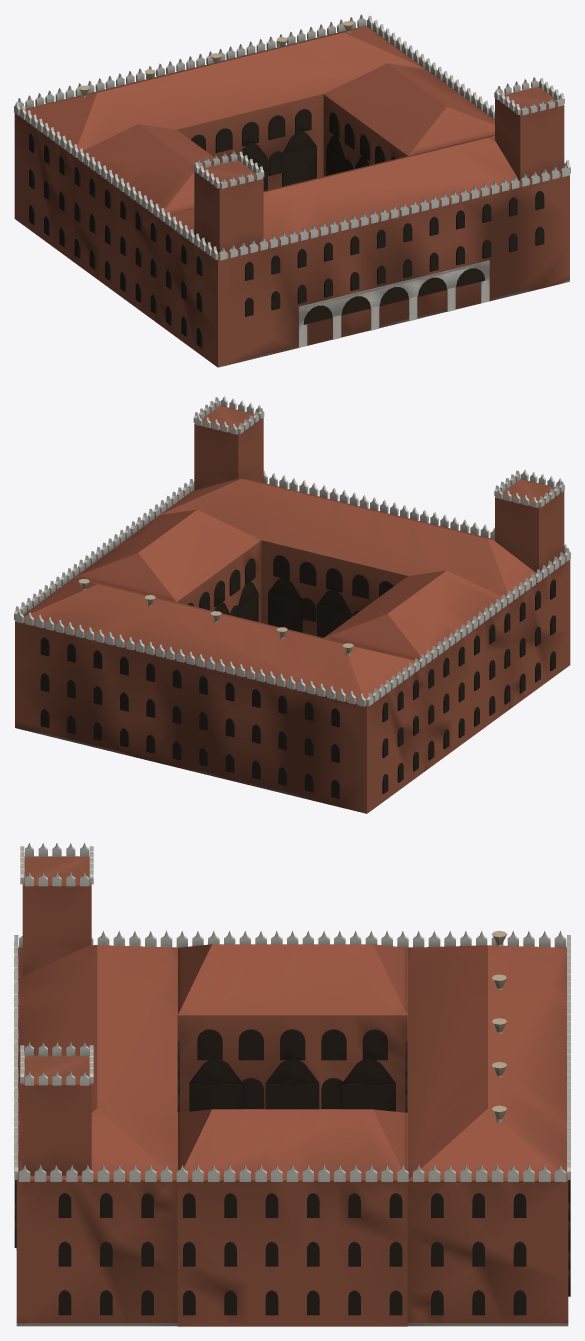
The model's file is fondaco-old.glb.
3 renders of one model, top to bottom at view 1: azimuth 30°, elevation 25°; view 2: azimuth 150°, elevation 25°; view 3: azimuth 270°, elevation 25°, orthographic. The views are drawn at different scales.
Parts seen in each view (by area): view 1: p2_roofs, p0_walls, p1_facades; view 2: p2_roofs, p0_walls, p1_facades; view 3: p2_roofs, p0_walls, p1_facades.
Part boxes in pixels (x1=…): p2_roofs: x1=25, y1=21, x2=564, y2=259; p0_walls: x1=14, y1=27, x2=569, y2=367; p1_facades: x1=14, y1=14, x2=570, y2=347; p2_roofs: x1=23, y1=396, x2=564, y2=706; p0_walls: x1=15, y1=518, x2=570, y2=813; p1_facades: x1=14, y1=470, x2=570, y2=798; p2_roofs: x1=16, y1=843, x2=567, y2=1180; p0_walls: x1=16, y1=947, x2=568, y2=1326; p1_facades: x1=14, y1=931, x2=570, y2=1315.
Bounding box in the file's own units: 48.45 × 24.26 × 48.47.
